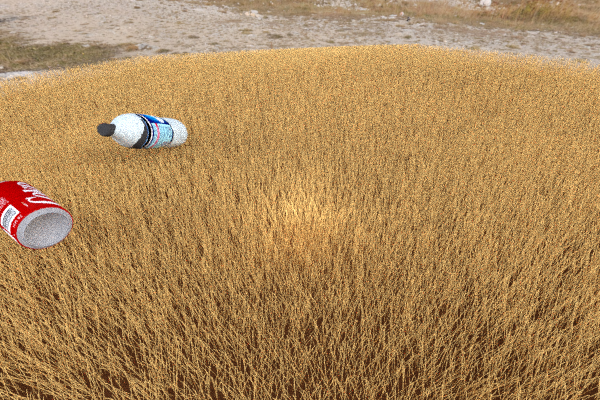Plastic Bottle: (0, 180, 73, 249), (97, 113, 187, 148)
